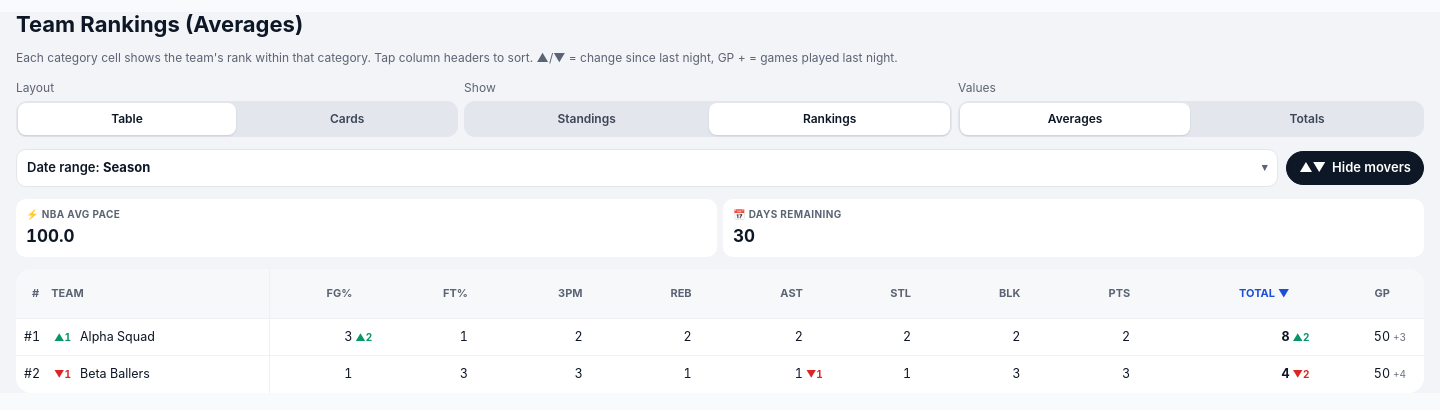
Rankings page — phone redesign › Hide movers removes the deltas; Show movers brings them back
Click the button "▲▼ Hide movers".
click(1355, 168)  # box [1286, 151, 1424, 185]
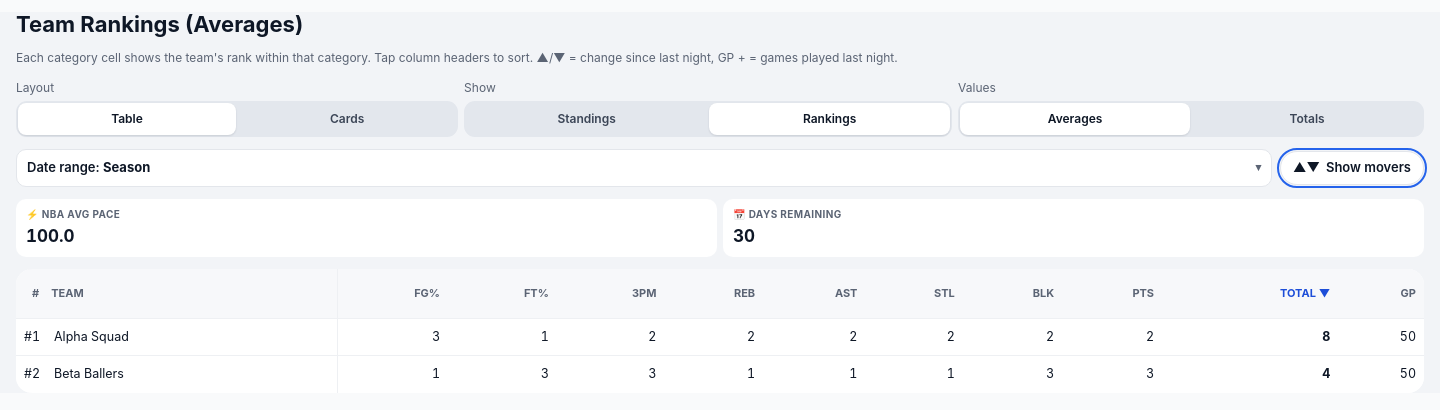
Click the button "▲▼ Show movers".
click(1352, 168)  # box [1280, 151, 1424, 185]
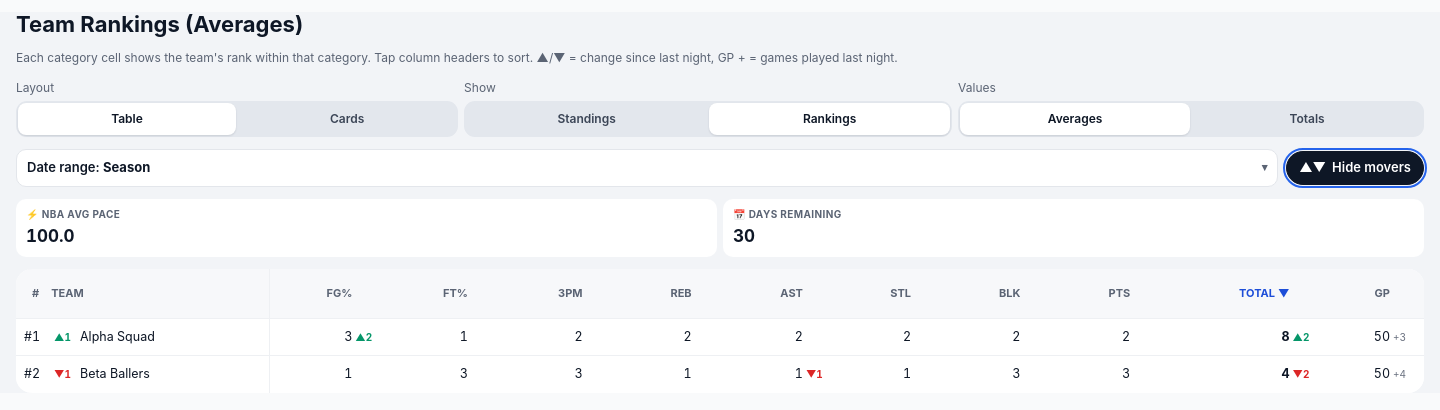
Now the row "#1 ▲1 Alpha Squad 3 ▲2 1 2 2 2 2 2 2 8 ▲2 50 +3" is shown, box [16, 318, 1424, 356]
